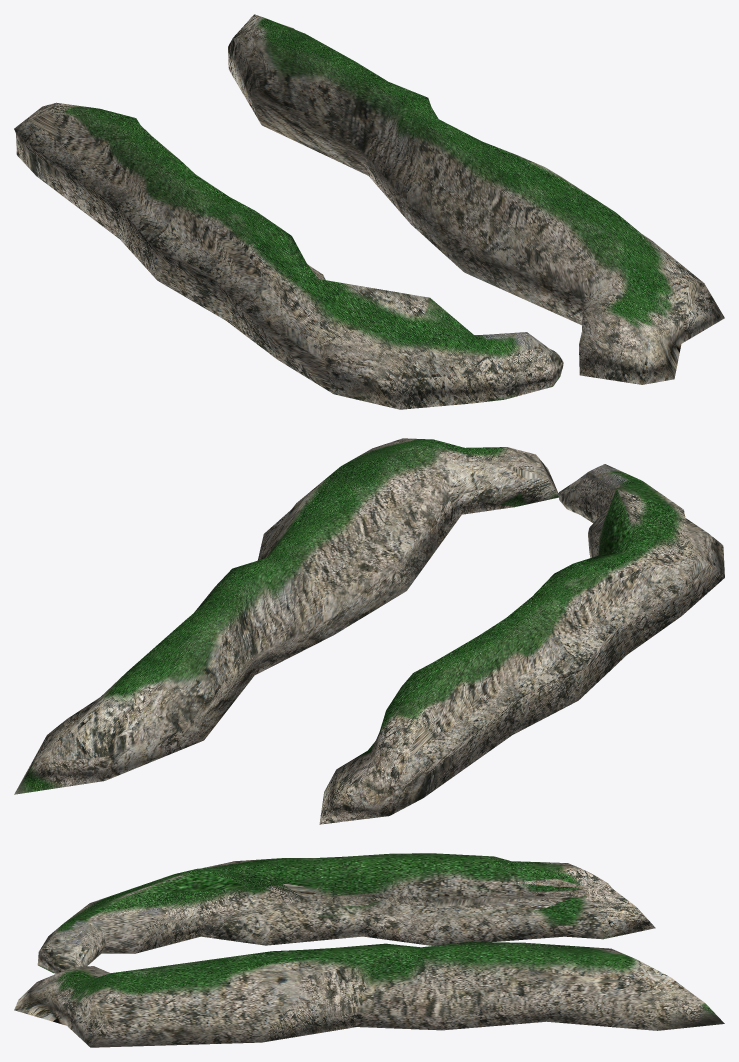
The model's file is canyon.fbx.
3 renders of one model, top to bottom at view 1: azimuth 30°, elevation 25°; view 2: azimuth 150°, elevation 25°; view 3: azimuth 270°, elevation 25°, orthographic. The views are drawn at different scales.
Parts seen in each view (by area): view 1: Cube.001; view 2: Cube.001; view 3: Cube.001.
Part boxes in pixels (x1,y1,x2,y2): Cube.001: [14, 14, 724, 409]; Cube.001: [14, 438, 724, 824]; Cube.001: [14, 853, 724, 1047].
Size of the model in its own units: 1515 by 306 by 3103.
